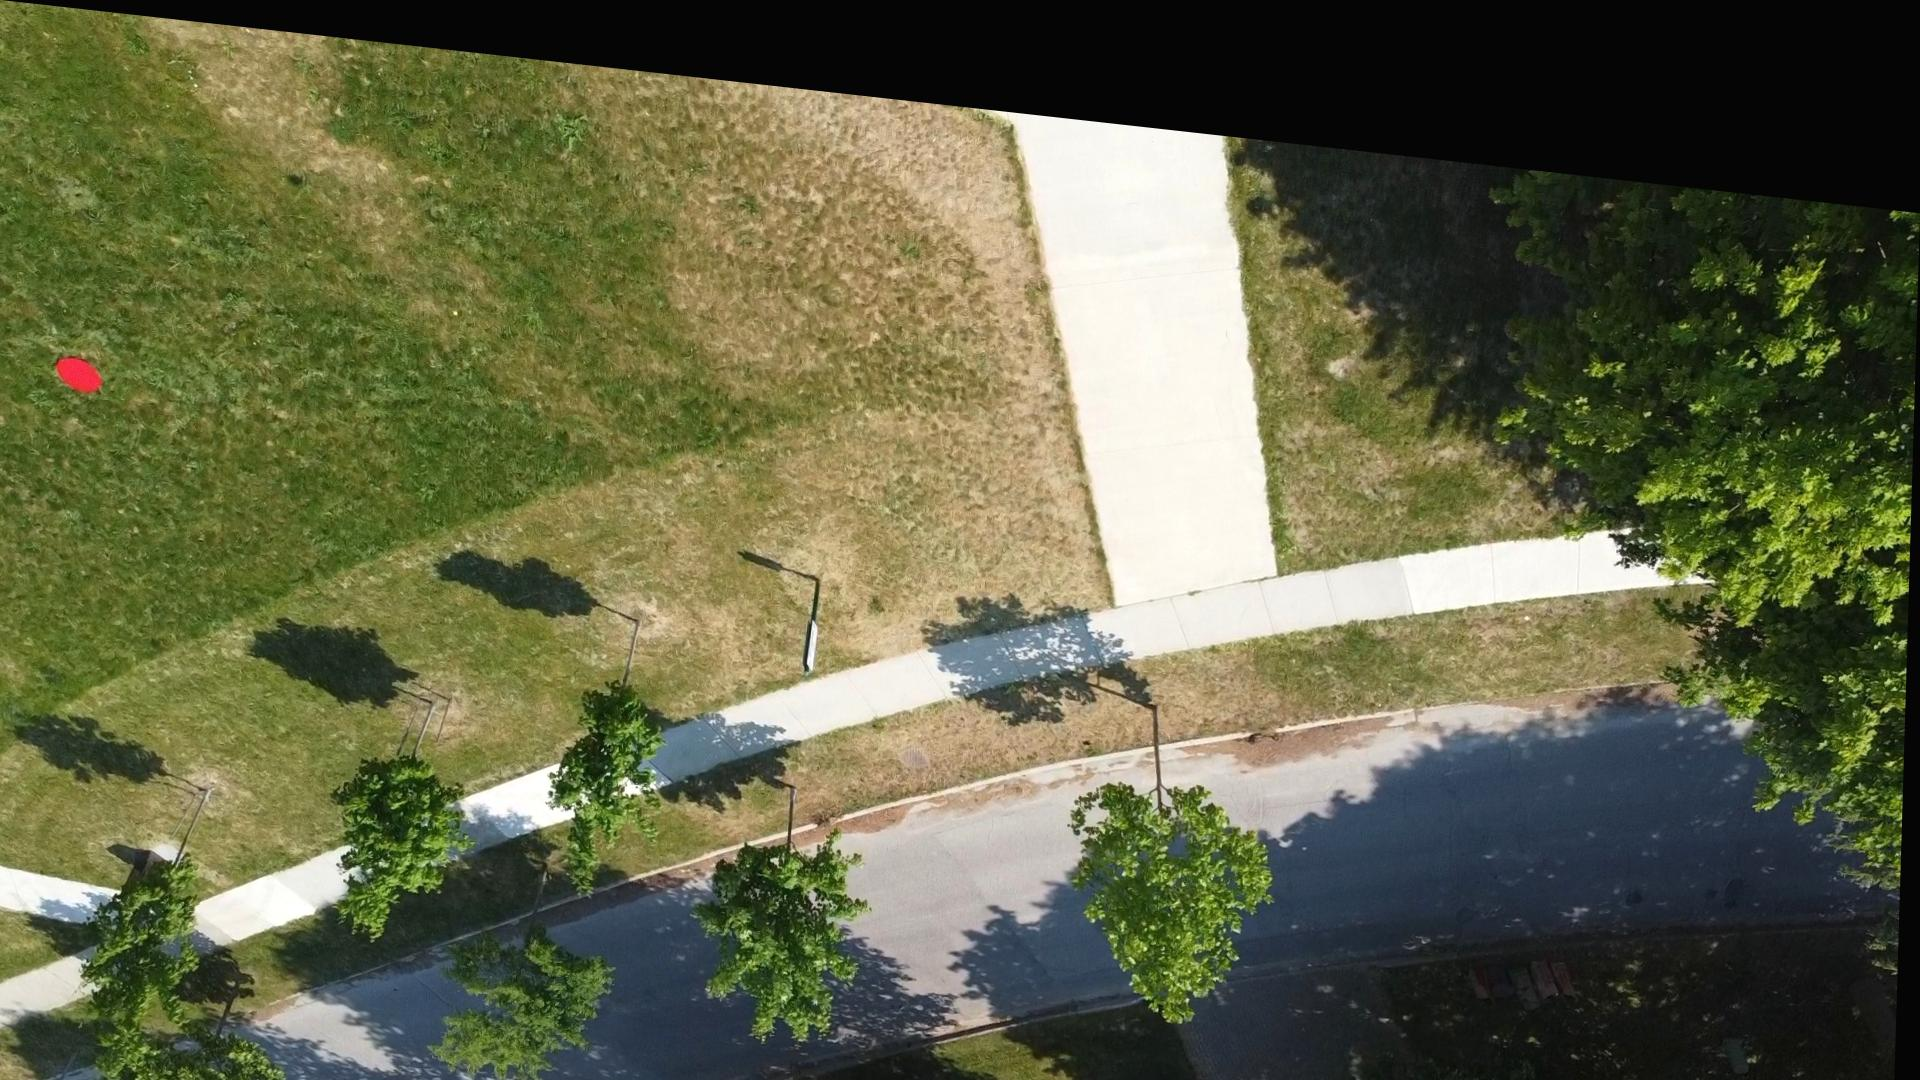Red: (57, 352, 107, 393)
